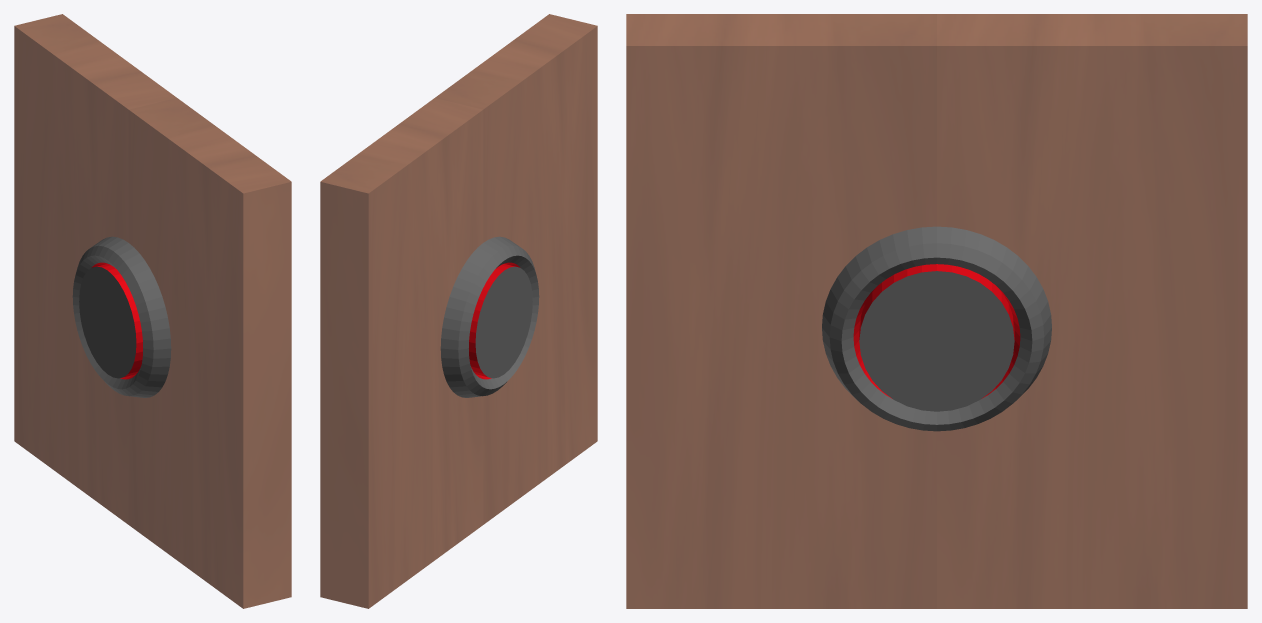
The picture shows the model from 3 angles, left to right: view 1: azimuth 30°, elevation 25°; view 2: azimuth 150°, elevation 25°; view 3: azimuth 270°, elevation 25°; orthographic projection. The views are drawn at different scales.
Visible parts, largest first — view 1: LeftDoor, RightDoor, KeyHole; view 2: RightDoor, LeftDoor, KeyHole; view 3: RightDoor, LeftDoor, KeyHole.
Boxes of the visible parts, x1=… form: LeftDoor: x1=128, y1=98, x2=291, y2=608; RightDoor: x1=14, y1=14, x2=176, y2=524; KeyHole: x1=72, y1=236, x2=171, y2=397; RightDoor: x1=320, y1=98, x2=483, y2=608; LeftDoor: x1=435, y1=14, x2=597, y2=524; KeyHole: x1=440, y1=236, x2=539, y2=397; RightDoor: x1=937, y1=14, x2=1247, y2=608; LeftDoor: x1=626, y1=14, x2=936, y2=608; KeyHole: x1=822, y1=226, x2=1051, y2=431.
Bounding box in the file's own units: 0.4556 × 2 × 2.
3 materials, 1 textured.
